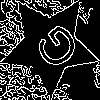G: (25, 20, 83, 79)
